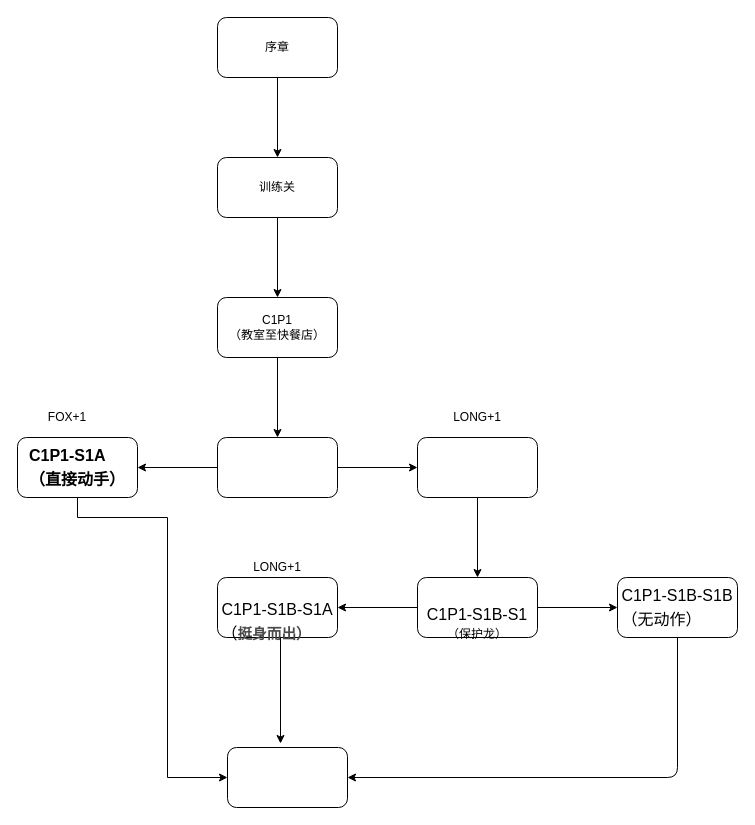
This 755x825 diagram has some shape labels left out. The box of each missing label's shape, as (x1, y1, x2, y2) in pixels:
C1P1-S1 (打架）: (216, 436, 338, 498)
C1P1-S1B （观察）: (416, 436, 538, 498)
C1P2: (226, 746, 348, 808)
